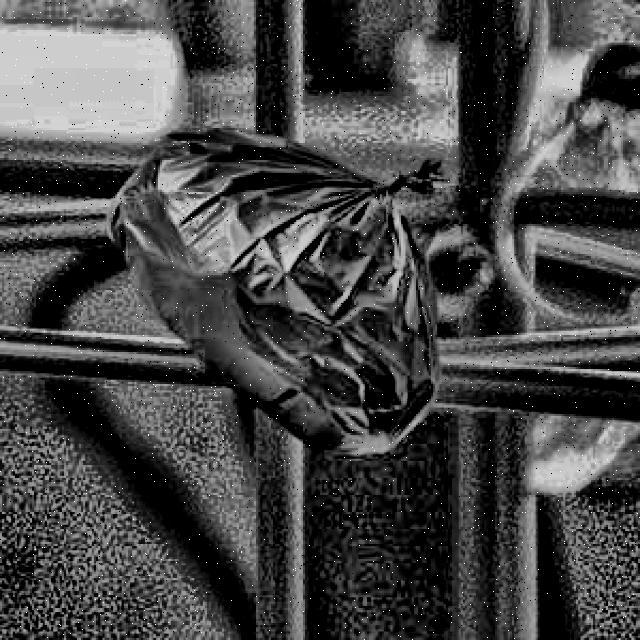Trashbag: (110, 105, 465, 464)
